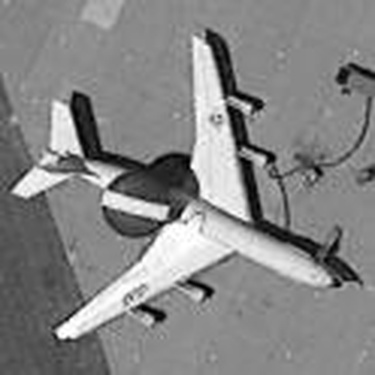airplane: (3, 23, 354, 348)
